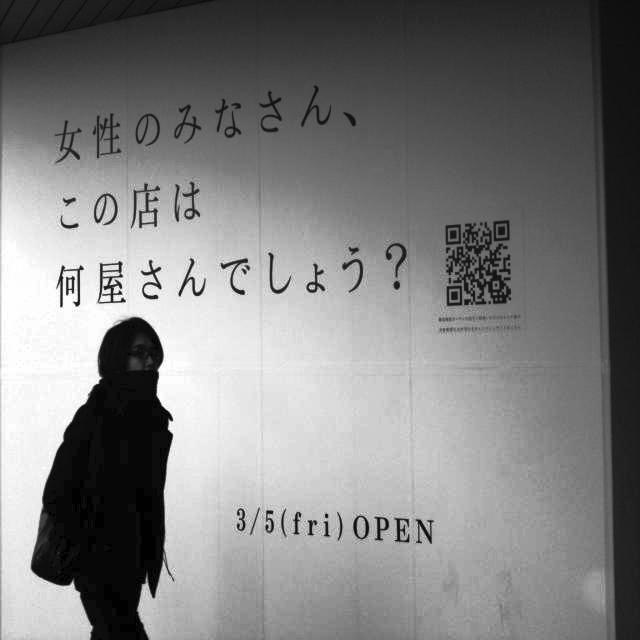qr_code: (446, 221, 511, 306)
